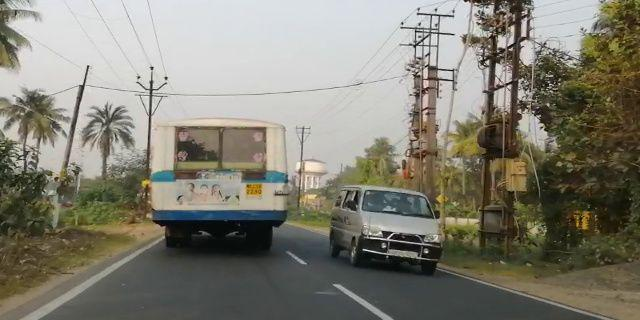Bus: (148, 114, 291, 252)
Van: (321, 181, 445, 275)
